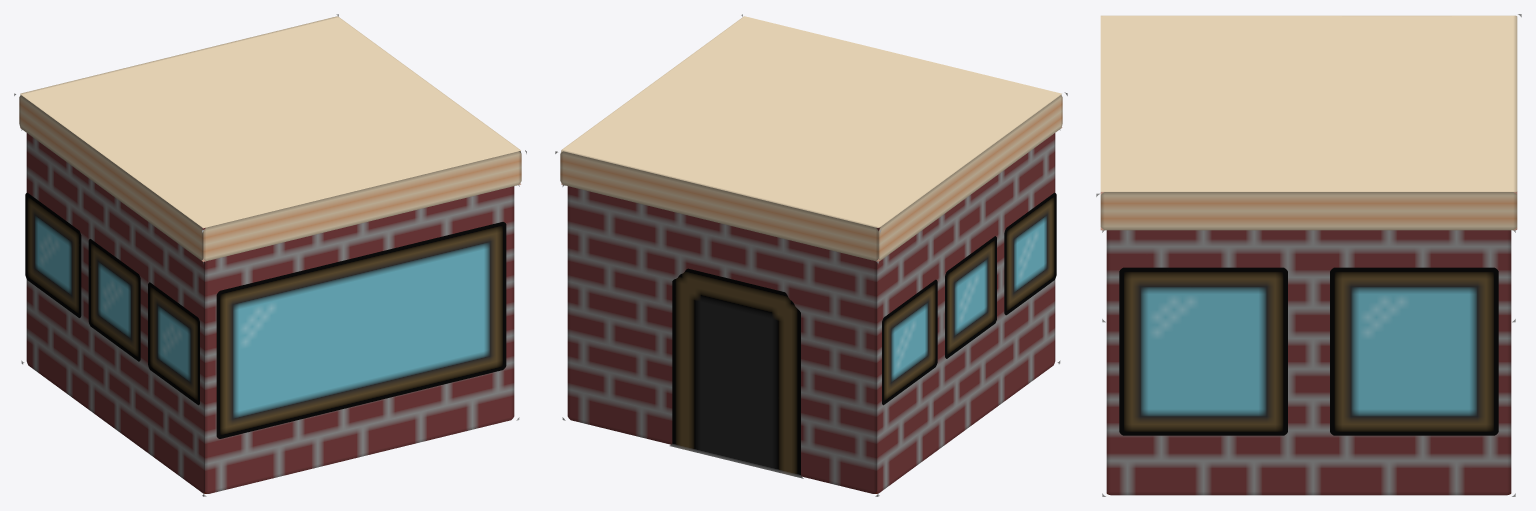
Rendered from CityBlock.fbx.
3 renders of one model, left to right at view 1: azimuth 30°, elevation 25°; view 2: azimuth 150°, elevation 25°; view 3: azimuth 270°, elevation 25°, orthographic. The views are drawn at different scales.
Parts seen in each view (by area): view 1: Base, Detail; view 2: Base, Detail; view 3: Base, Detail.
Boxes of the visible parts, box(x1,y1,x2,y2) form: Base: box(19, 16, 521, 493); Detail: box(14, 14, 526, 496); Base: box(560, 16, 1062, 493); Detail: box(555, 14, 1067, 496); Base: box(1100, 15, 1517, 495); Detail: box(1096, 14, 1521, 496).
Size of the model in its own units: 315 by 250 by 315.
2 materials, 2 textured.
